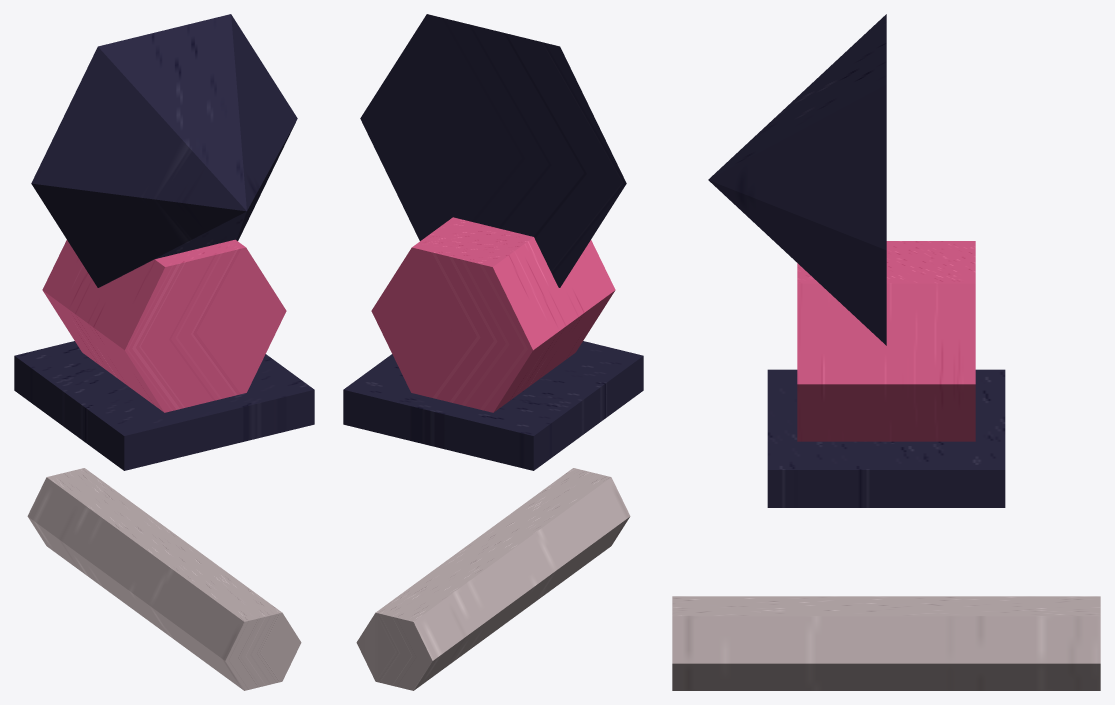
Rendered from spirit_lantern_lod1.glb.
3 renders of one model, left to right at view 1: azimuth 30°, elevation 25°; view 2: azimuth 150°, elevation 25°; view 3: azimuth 270°, elevation 25°, orthographic. The views are drawn at different scales.
Parts seen in each view (by area): view 1: obsidian_3, ember_2, bone_0, obsidian_1; view 2: obsidian_3, ember_2, bone_0, obsidian_1; view 3: bone_0, ember_2, obsidian_3, obsidian_1.
Boxes of the visible parts, <box> form: obsidian_3: <box>31,14,297,287</box>; ember_2: <box>42,239,286,412</box>; bone_0: <box>27,468,301,690</box>; obsidian_1: <box>14,341,314,470</box>; obsidian_3: <box>360,14,626,287</box>; ember_2: <box>371,217,615,412</box>; bone_0: <box>356,468,630,690</box>; obsidian_1: <box>343,341,643,470</box>; bone_0: <box>672,596,1100,690</box>; ember_2: <box>797,241,975,441</box>; obsidian_3: <box>708,14,886,345</box>; obsidian_1: <box>767,369,1005,507</box>.
Size of the model in its own units: 2.8 by 5.86 by 3.6.
Materials: 3 (3 with a texture image).
